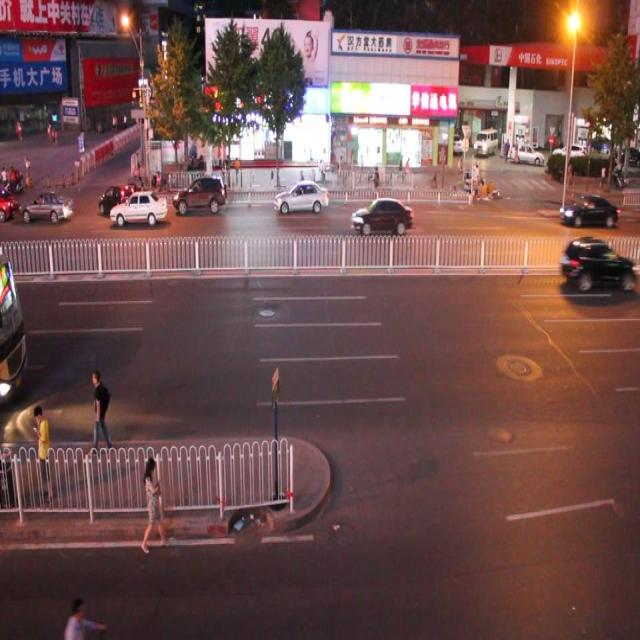car: (558, 236, 631, 290), (349, 195, 413, 236), (558, 192, 620, 230), (270, 175, 326, 216), (170, 171, 223, 211), (110, 191, 168, 227), (18, 186, 71, 224), (101, 180, 145, 223)
